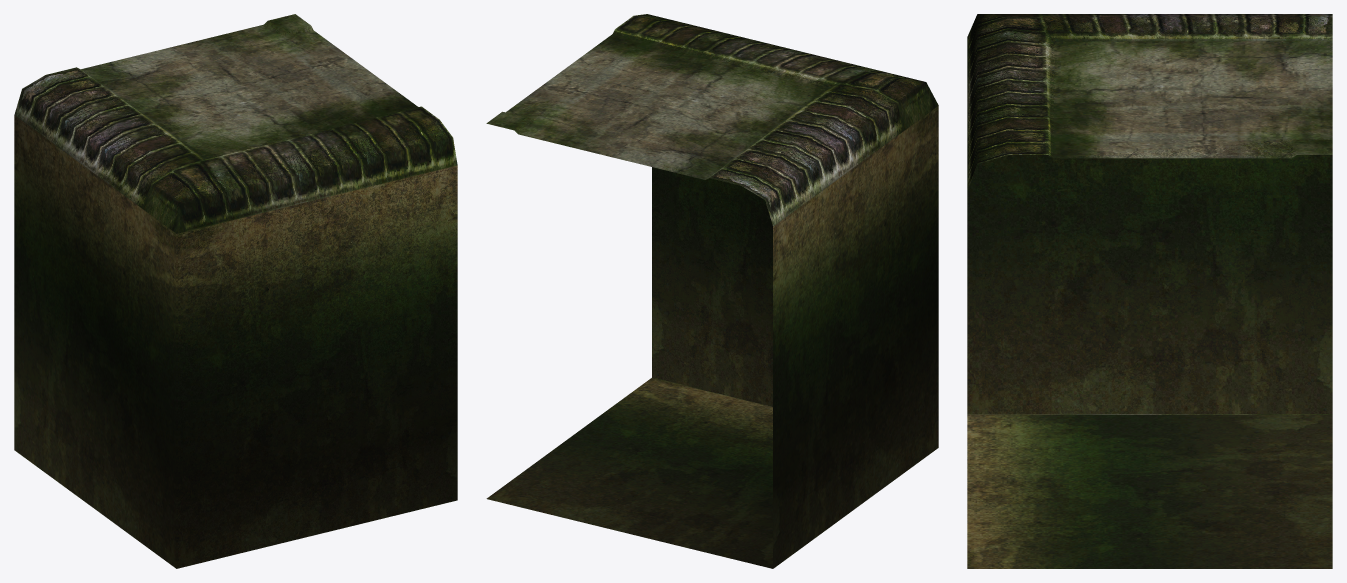
File: floor_corner_convex.DAE
3 views of the same model, side by side, from view 1: azimuth 30°, elevation 25°; view 2: azimuth 150°, elevation 25°; view 3: azimuth 270°, elevation 25° (orthographic). The views are drawn at different scales.
Visible parts, largest first — view 1: floor_corner_convex; view 2: floor_corner_convex; view 3: floor_corner_convex.
Boxes of the visible parts, x1,y1,x2,y2 form: floor_corner_convex: (14,14,457,568); floor_corner_convex: (486,14,938,568); floor_corner_convex: (967,14,1332,568).
Bounding box in the file's own units: 2 × 2 × 2.5.
